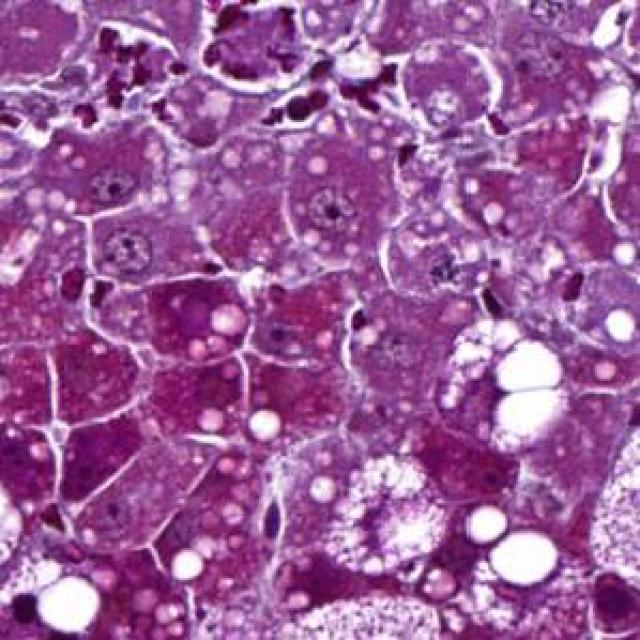ballooning: (436, 317, 572, 458), (325, 450, 456, 580)
